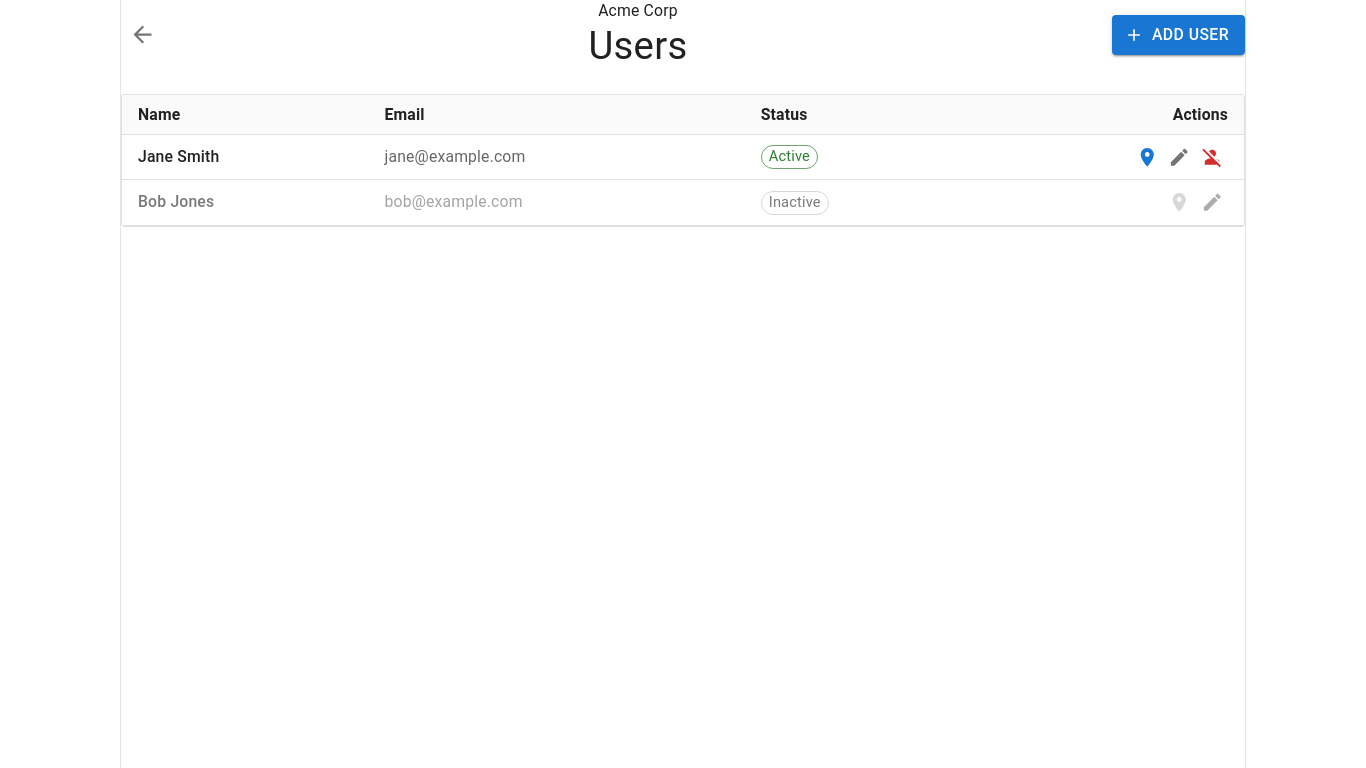
Test: UsersPage › opens the Manage Locations dialog for an active user
The width and height of the screenshot is (1366, 768).
Expected: the text "Jane Smith" is shown, [122,134,368,180]
Click the button named "manage locations" in the row of "Smith": (1147, 157) [1130,141,1163,173]
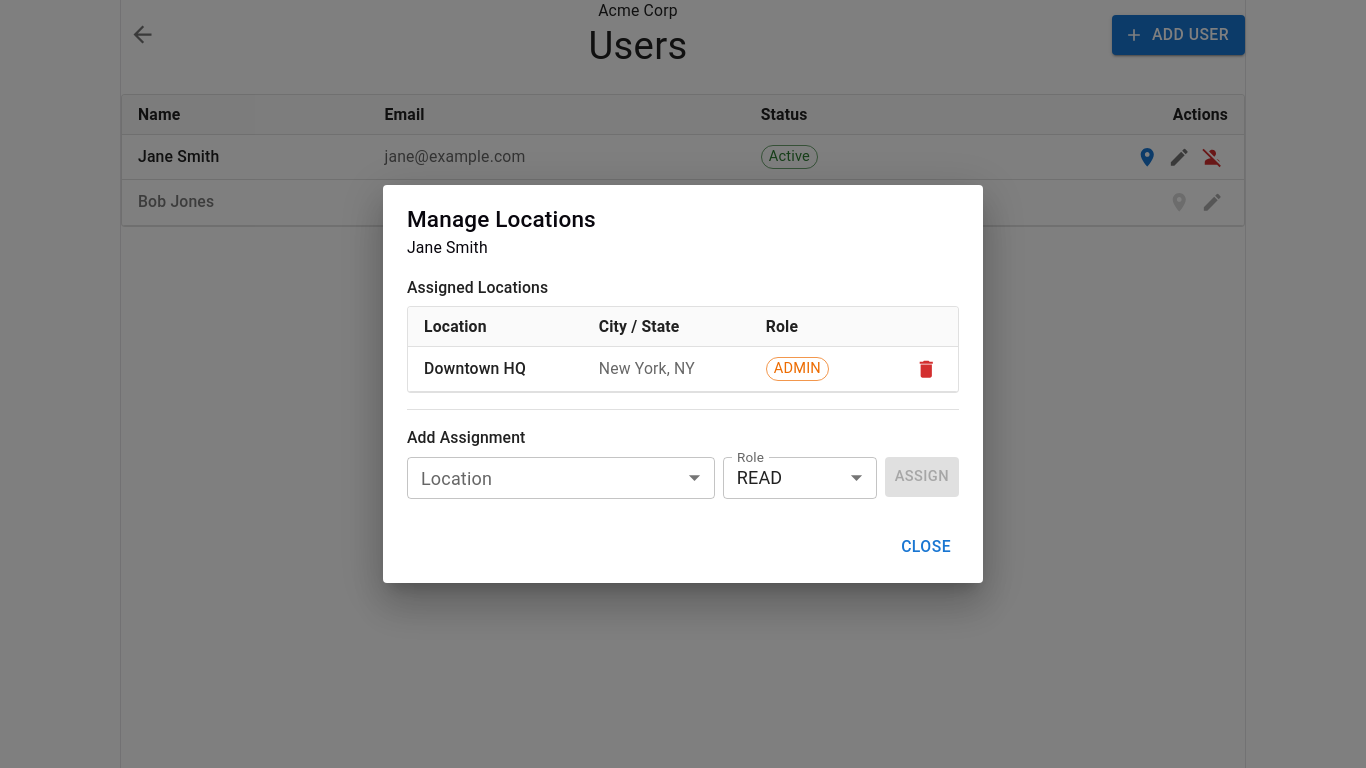
Now the heading "Manage Locations Jane Smith" is shown, box [407,206,596,257]
Now the text "Downtown HQ" is shown, box [408,346,583,392]
Now the text "ADMIN" is shown, box [774,359,821,377]
